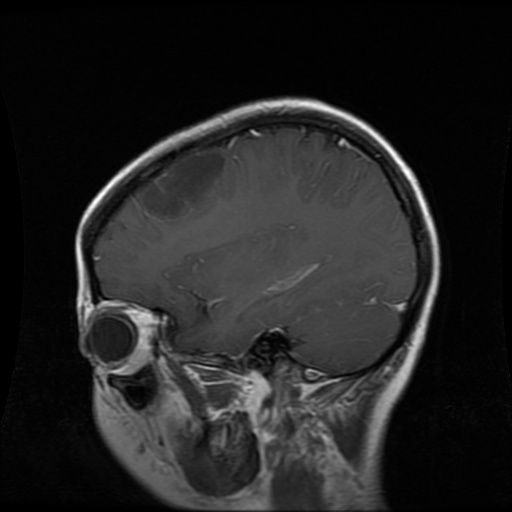glioma: (135, 149, 226, 219)
